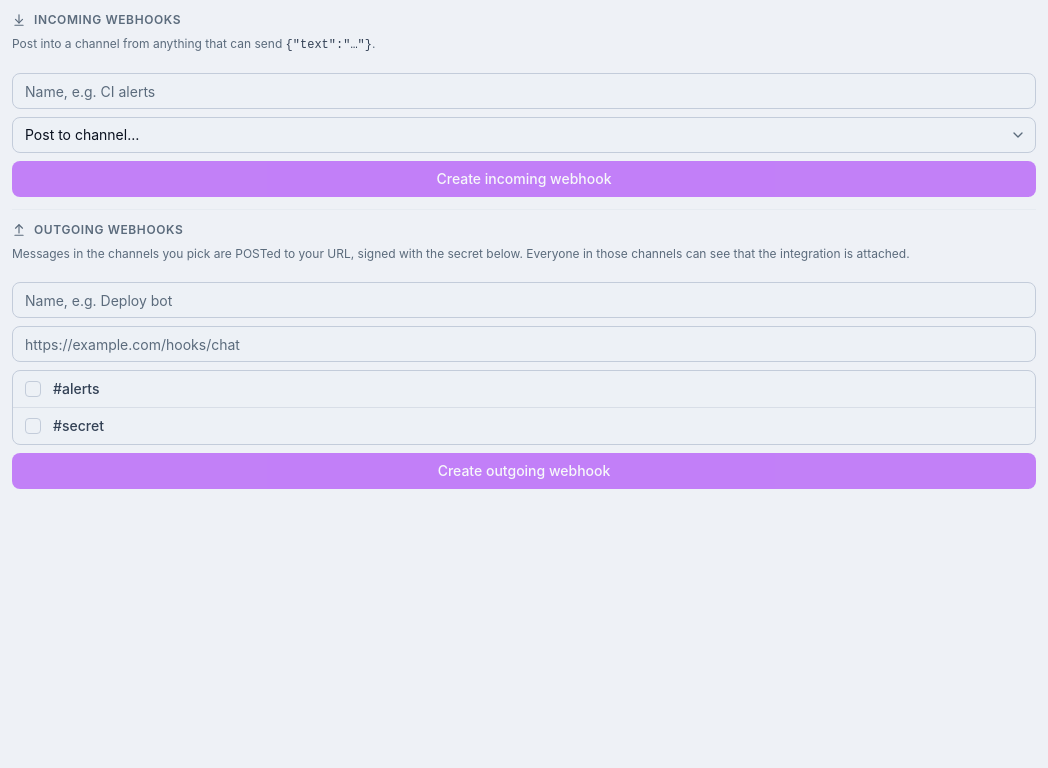
IntegrationsSection › shows the webhook URL right after creating an incoming hook
Type "CI alerts" into the field labelled "Incoming webhook name" at [524, 91], box [12,73,1036,109]
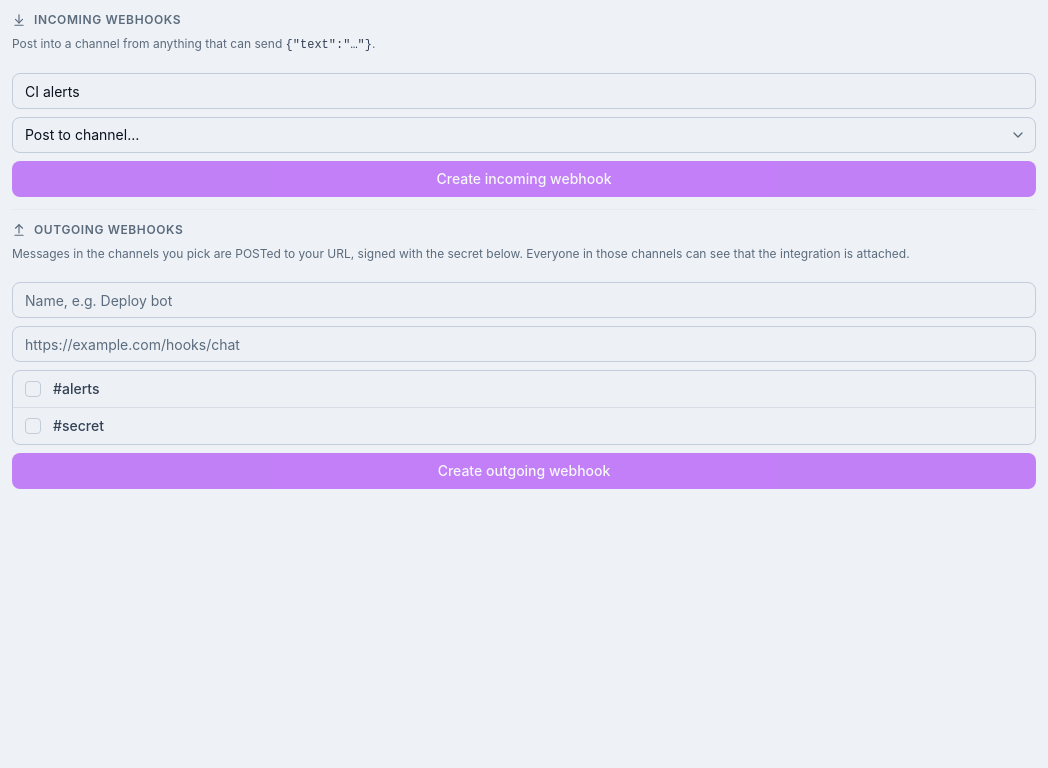
Select "#alerts" in the dropdown labelled "Incoming webhook channel" at [524, 135], box [12,117,1036,153]
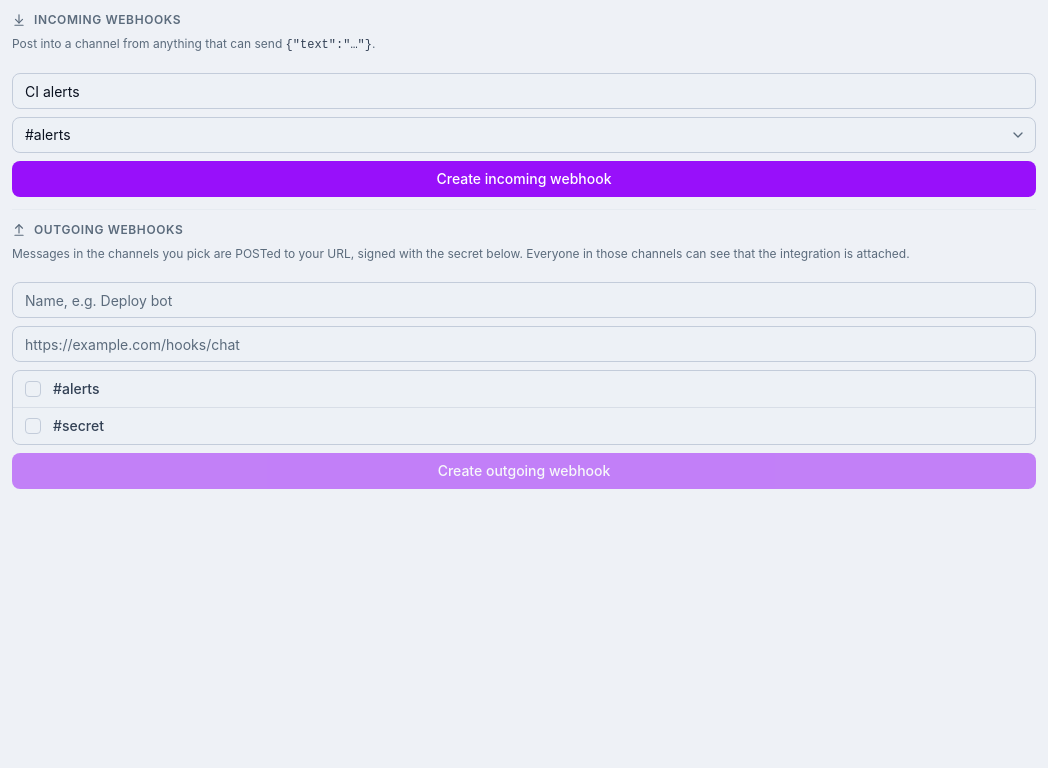
Click the button with test id "incoming-hook-create" at [524, 179], box [12,161,1036,197]
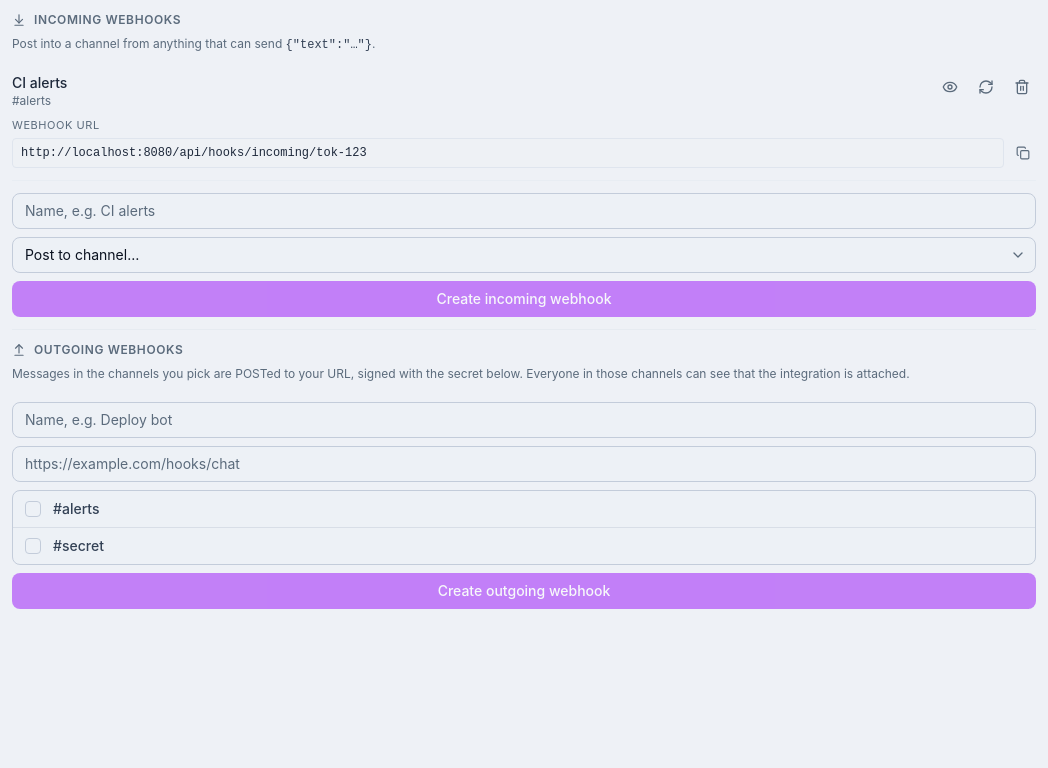
Check: the text "http://localhost:8080/api/hooks/incoming/tok-123" is shown, box [12,138,1004,168]
